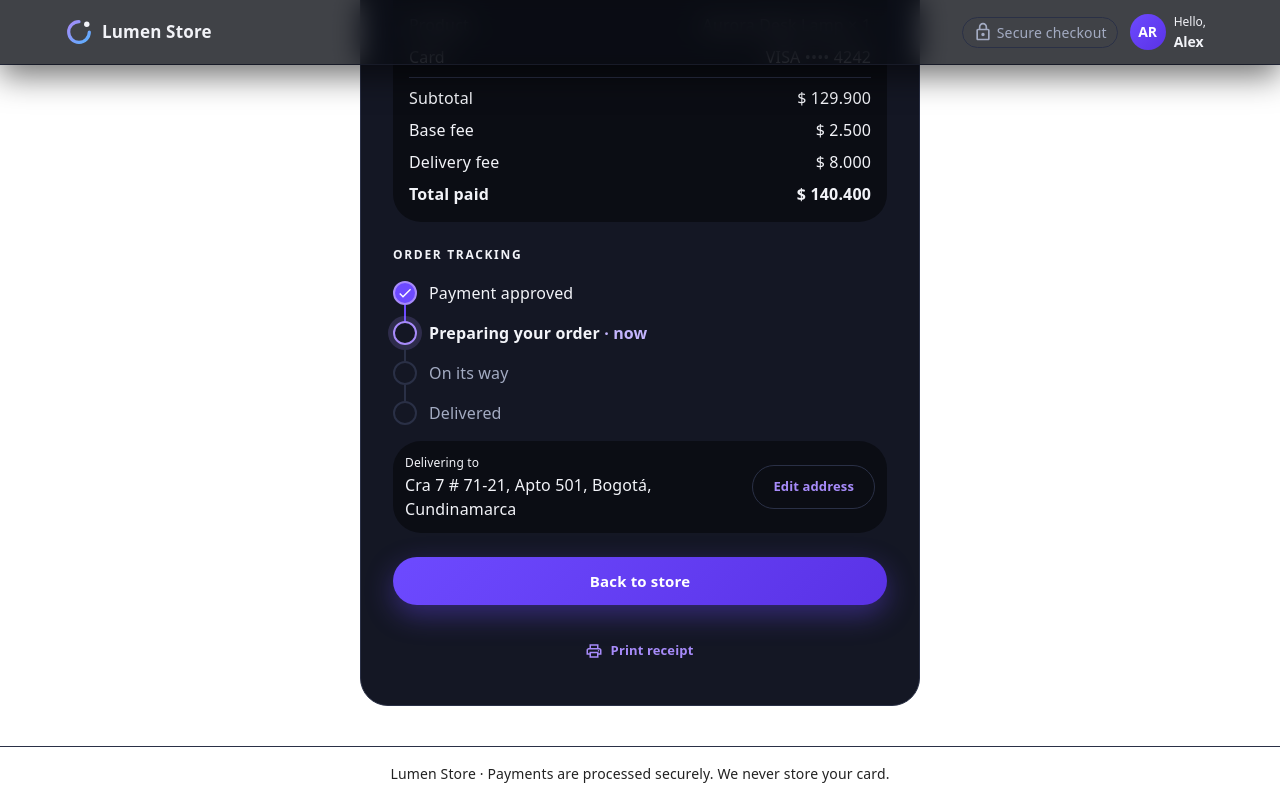
order tracking on the status screen › AC-4: the device that placed the order sees the address and can correct it
(page scrolled)
expect the text "Cra 7 # 71-21, Apto 501, Bogotá, Cundinamarca" is shown: met, box [405, 474, 652, 520]
Click the button "Edit address": coordinates (814, 487) [752, 465, 875, 509]
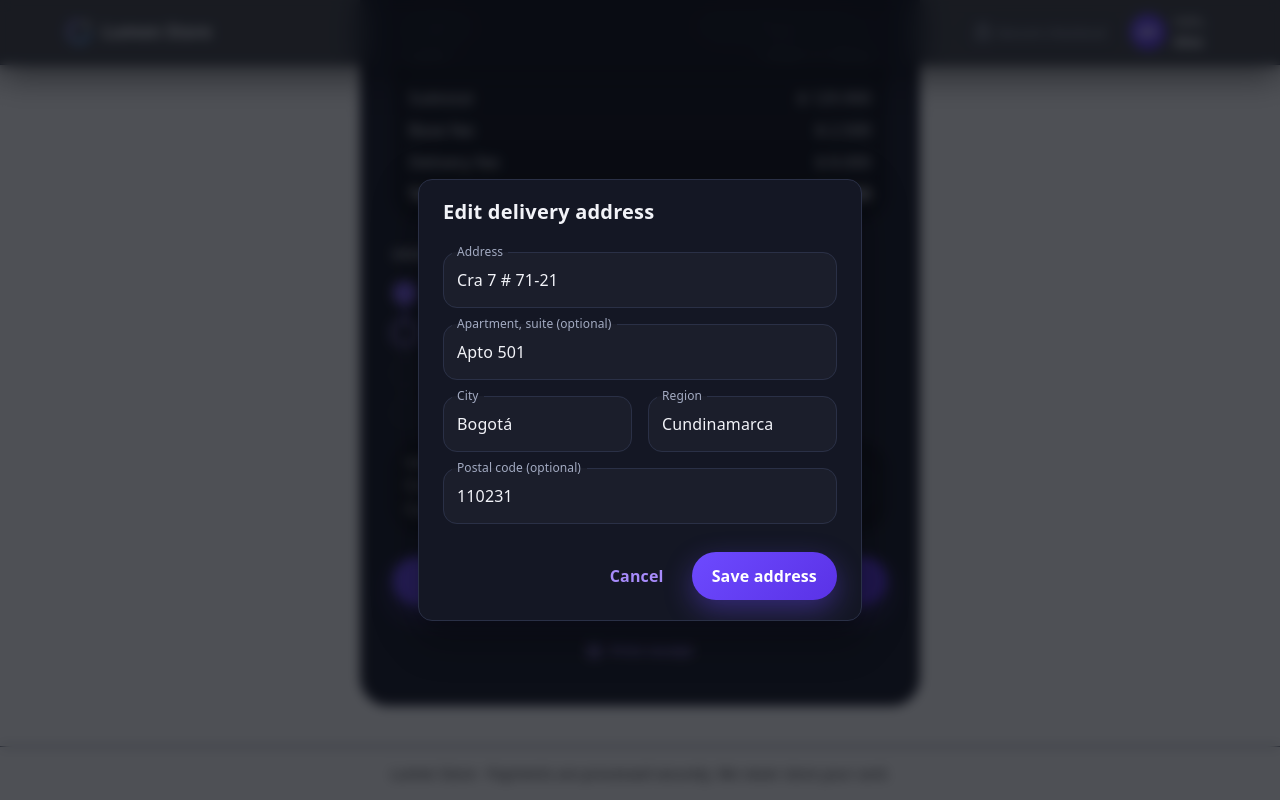
Replace the text in the field labelled "Address" with "Calle 100 # 8A-55": coordinates (640, 280) [443, 252, 837, 308]
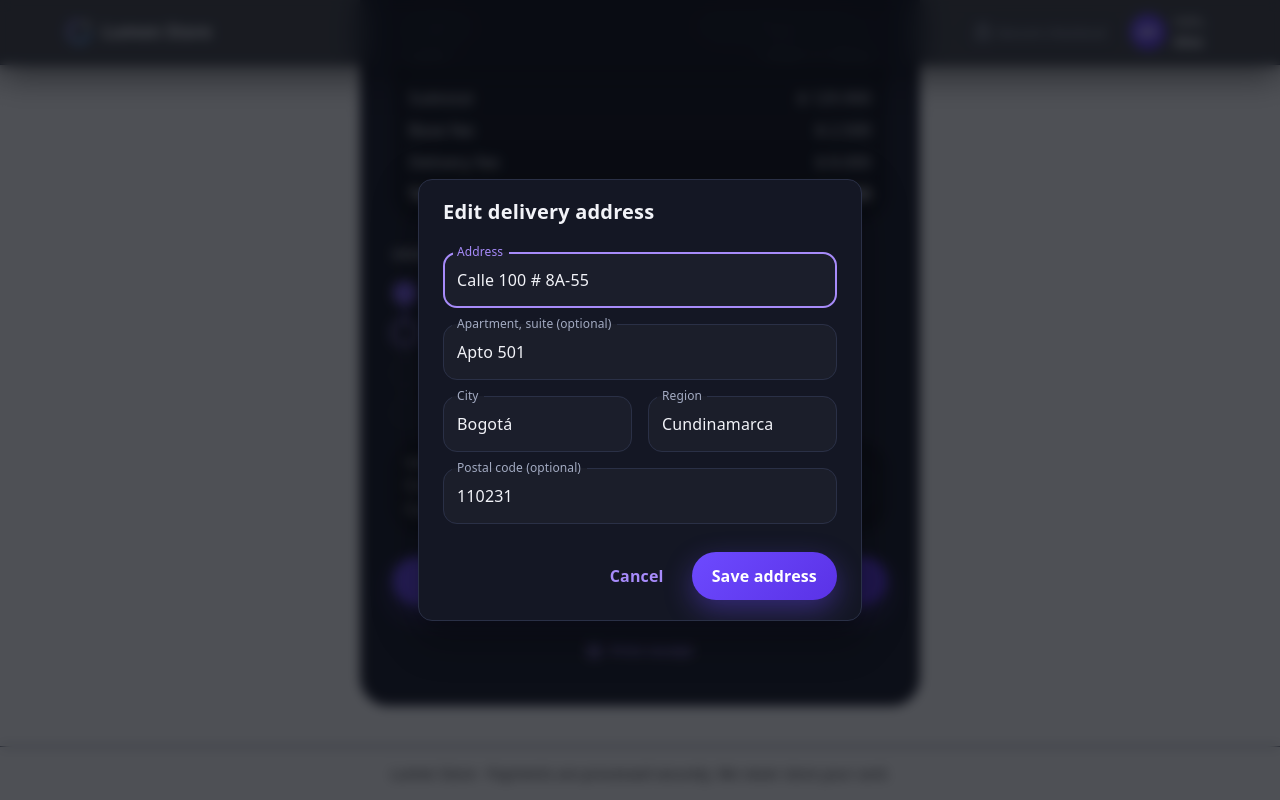
Click the button "Save address": coordinates (764, 576) [692, 552, 837, 600]
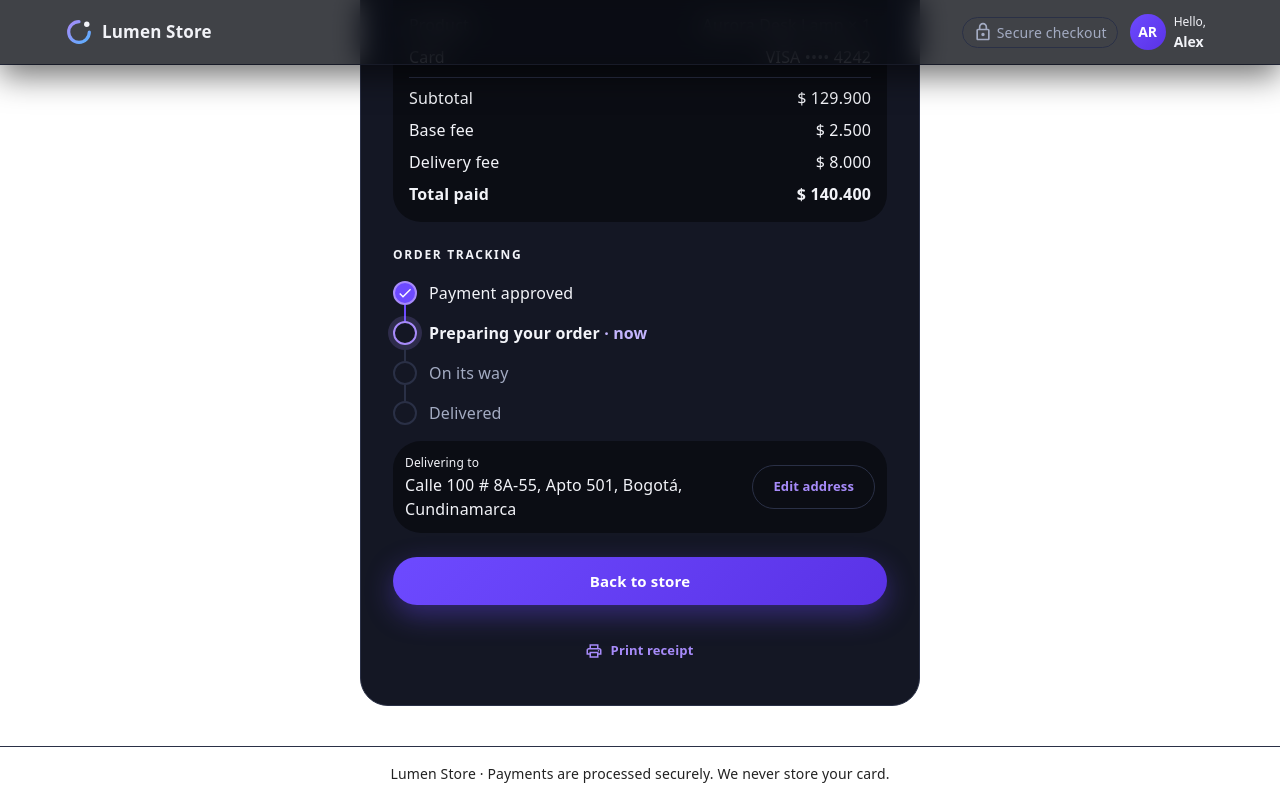
expect the dialog is gone: met
expect the text "Calle 100 # 8A-55, Apto 501, Bogotá, Cundinamarca" is shown: met, box [405, 474, 683, 520]
